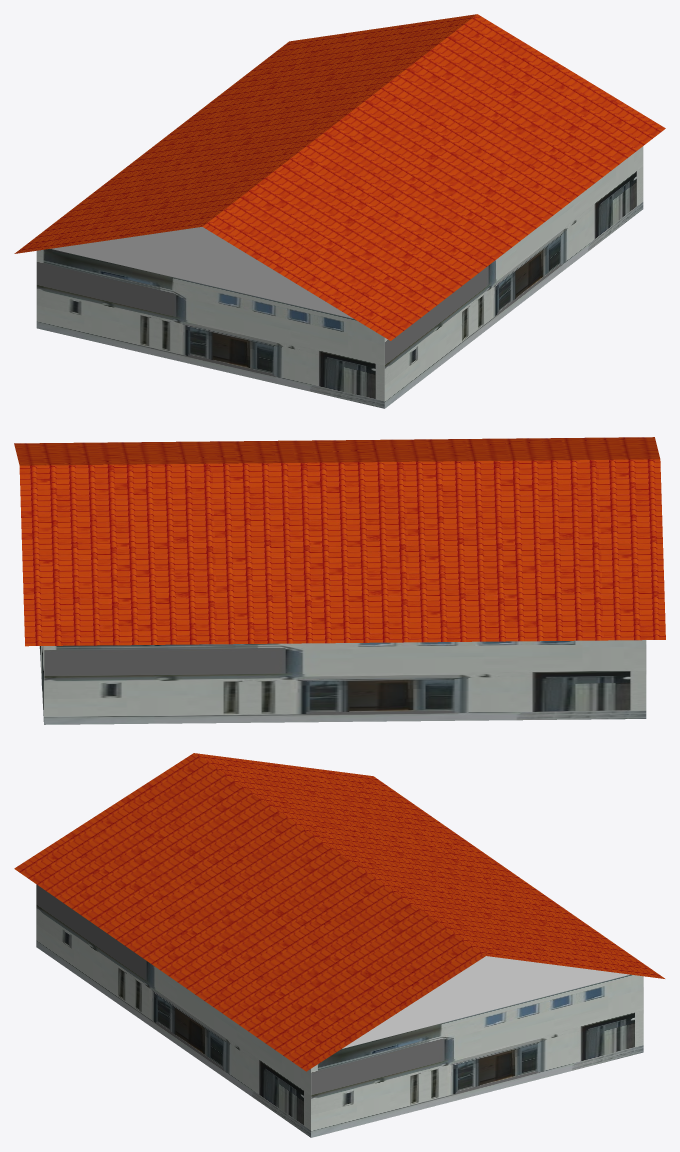
3 views of the same model, one above another, from view 1: azimuth 30°, elevation 25°; view 2: azimuth 150°, elevation 25°; view 3: azimuth 270°, elevation 25° (orthographic). The views are drawn at different scales.
Visible parts, largest first — view 1: CityEngineMaterial_12_m, CityEngineMaterial_11_m, CityEngineMaterial_3_m; view 2: CityEngineMaterial_12_m, CityEngineMaterial_11_m; view 3: CityEngineMaterial_12_m, CityEngineMaterial_11_m, CityEngineMaterial_3_m.
Boxes of the visible parts, x1,y1,x2,y2 form: CityEngineMaterial_12_m: (14,14,665,340); CityEngineMaterial_11_m: (36,146,643,408); CityEngineMaterial_3_m: (50,227,353,318); CityEngineMaterial_12_m: (14,437,665,646); CityEngineMaterial_11_m: (39,640,646,724); CityEngineMaterial_12_m: (14,753,664,1071); CityEngineMaterial_11_m: (36,884,643,1137); CityEngineMaterial_3_m: (342,956,629,1048).
Bounding box in the file's own units: 41.3 × 9.47 × 38.51.
